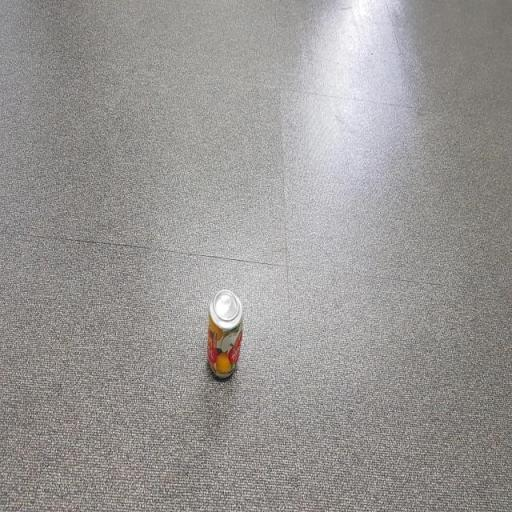metal: (204, 278, 246, 394)
